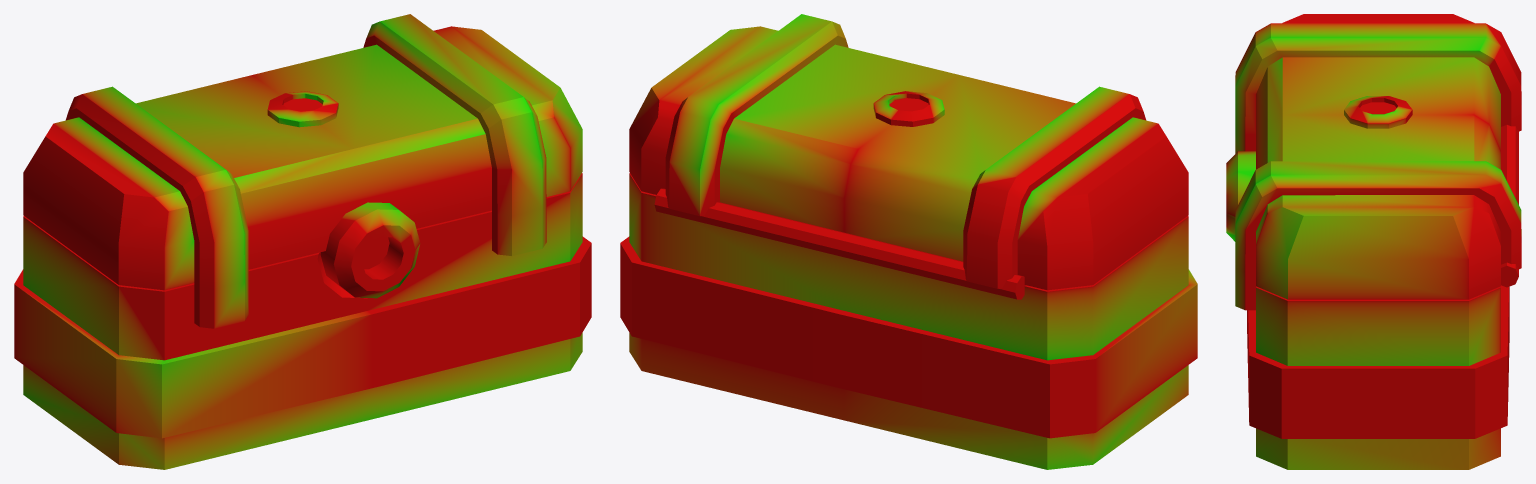
The model's file is SpawnPointChest1.fbx.
3 views of the same model, side by side, from view 1: azimuth 30°, elevation 25°; view 2: azimuth 150°, elevation 25°; view 3: azimuth 270°, elevation 25° (orthographic). The views are drawn at different scales.
Visible parts, largest first — view 1: SpawnPointChest1; view 2: SpawnPointChest1; view 3: SpawnPointChest1.
Boxes of the visible parts, <box> form: SpawnPointChest1: <box>14,14,591,469</box>; SpawnPointChest1: <box>620,14,1197,469</box>; SpawnPointChest1: <box>1226,14,1521,469</box>.
Bounding box in the file's own units: 2.19 × 1.22 × 1.24.
